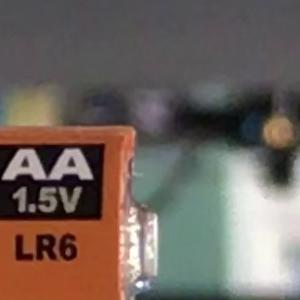LR6: (4, 223, 88, 272)
